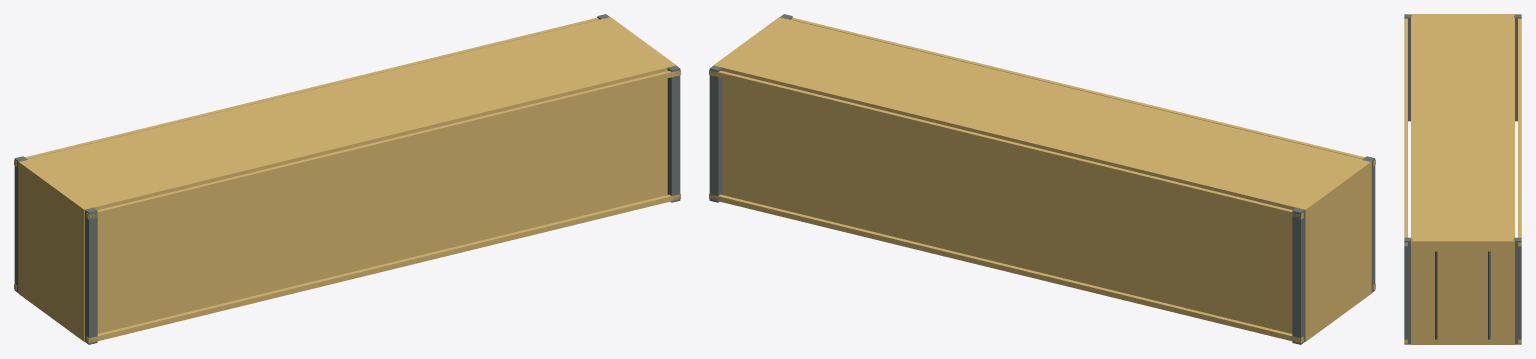
The picture shows the model from 3 angles, left to right: view 1: azimuth 30°, elevation 25°; view 2: azimuth 150°, elevation 25°; view 3: azimuth 270°, elevation 25°; orthographic projection. The views are drawn at different scales.
Bounding box in the file's own units: 12.36 × 2.6 × 2.66.
